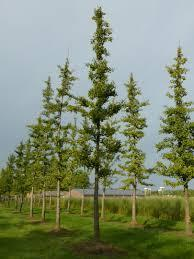tree: (70, 4, 125, 239), (154, 41, 194, 233), (42, 60, 82, 232), (114, 70, 156, 227)
